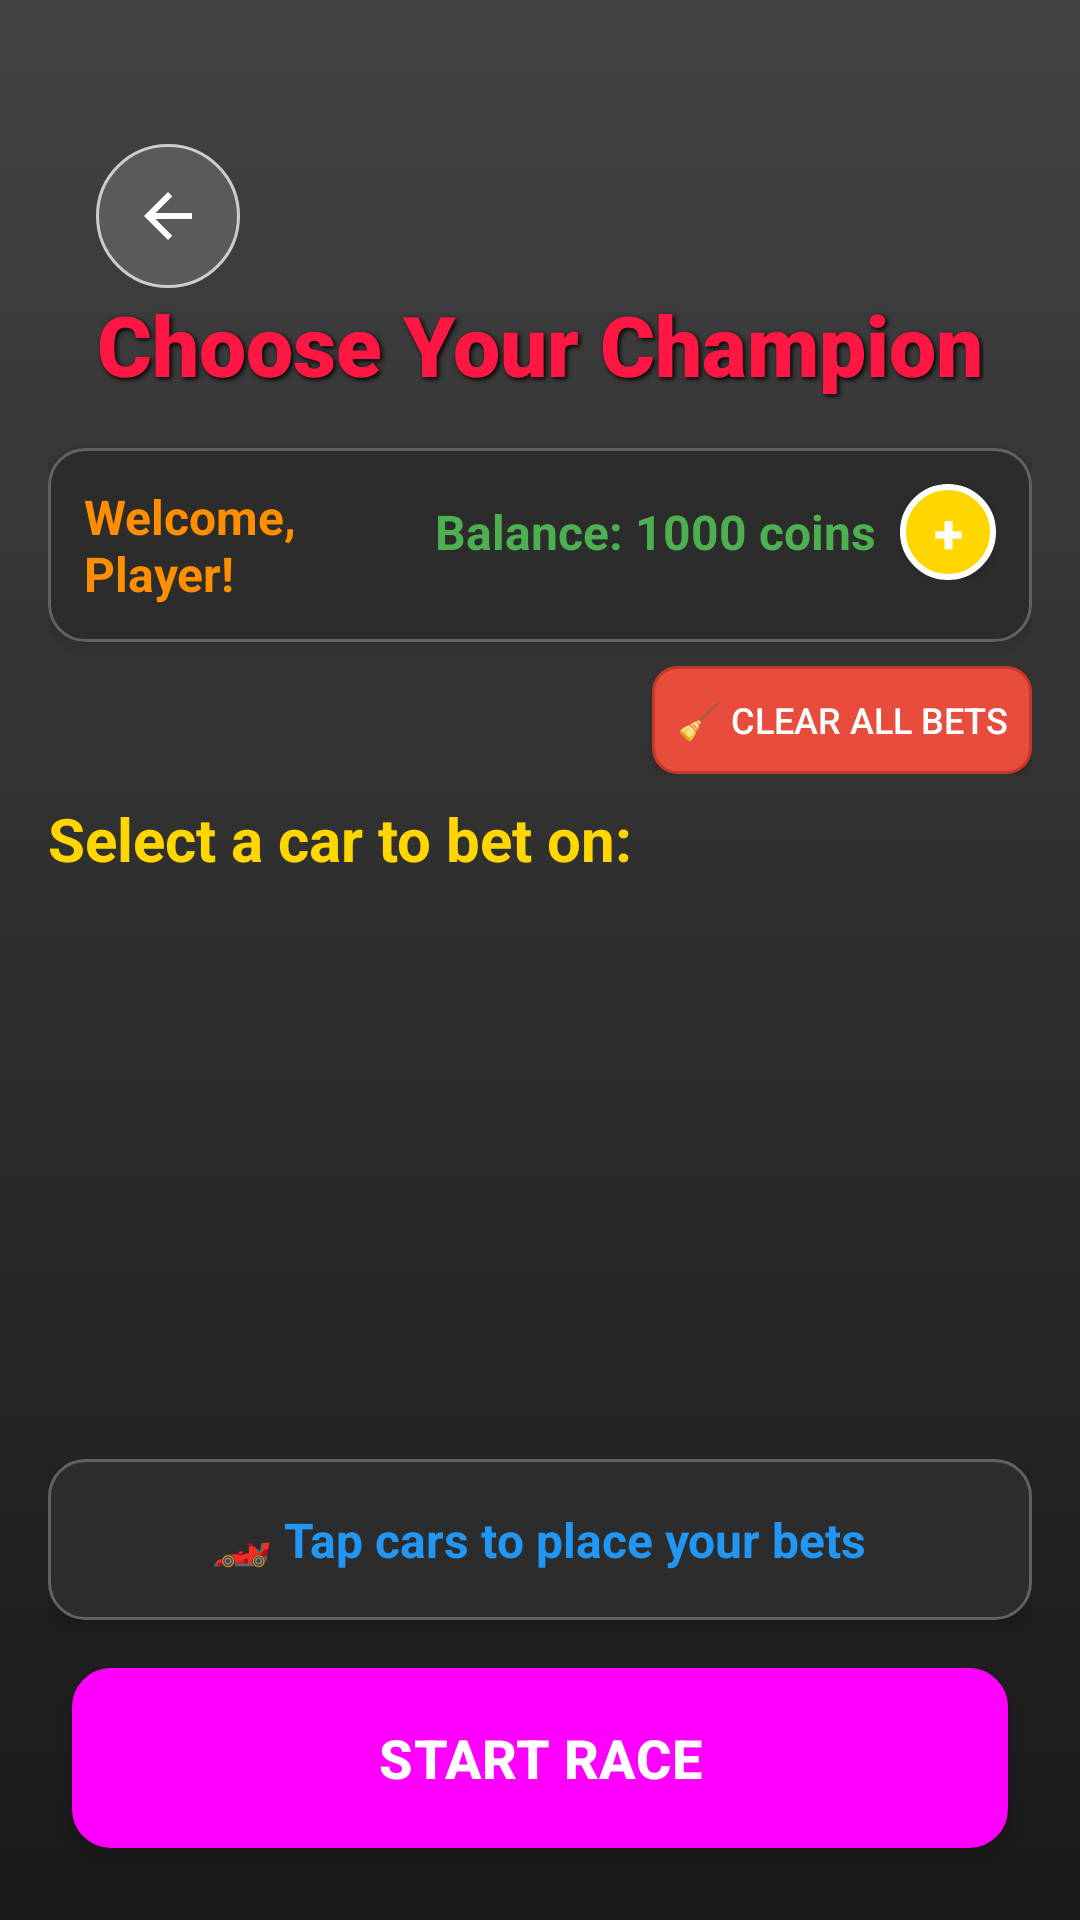

Where icons sit on this 1080w x 1920h app screen, as (x1, y1, x2, y2):
Back: (96, 144, 240, 288)
